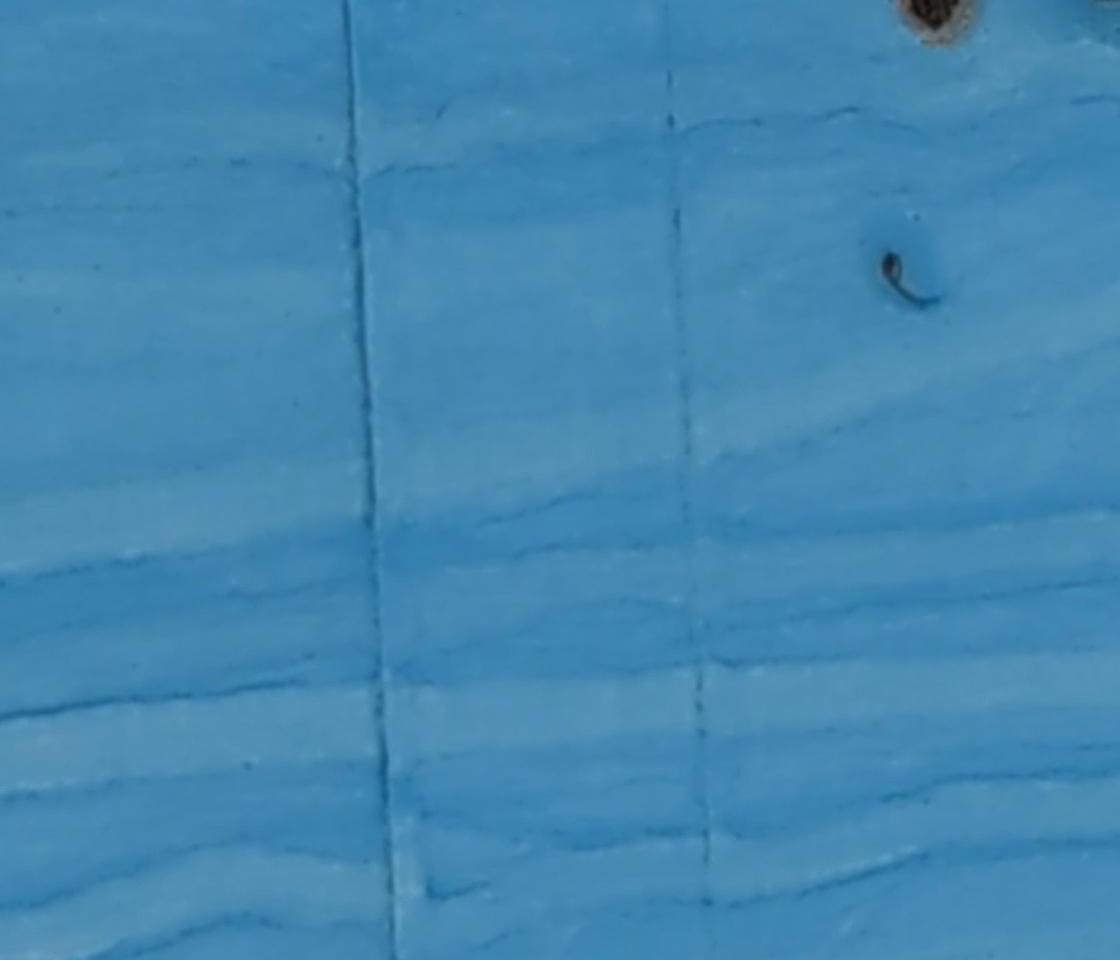rust: (898, 1, 984, 47)
